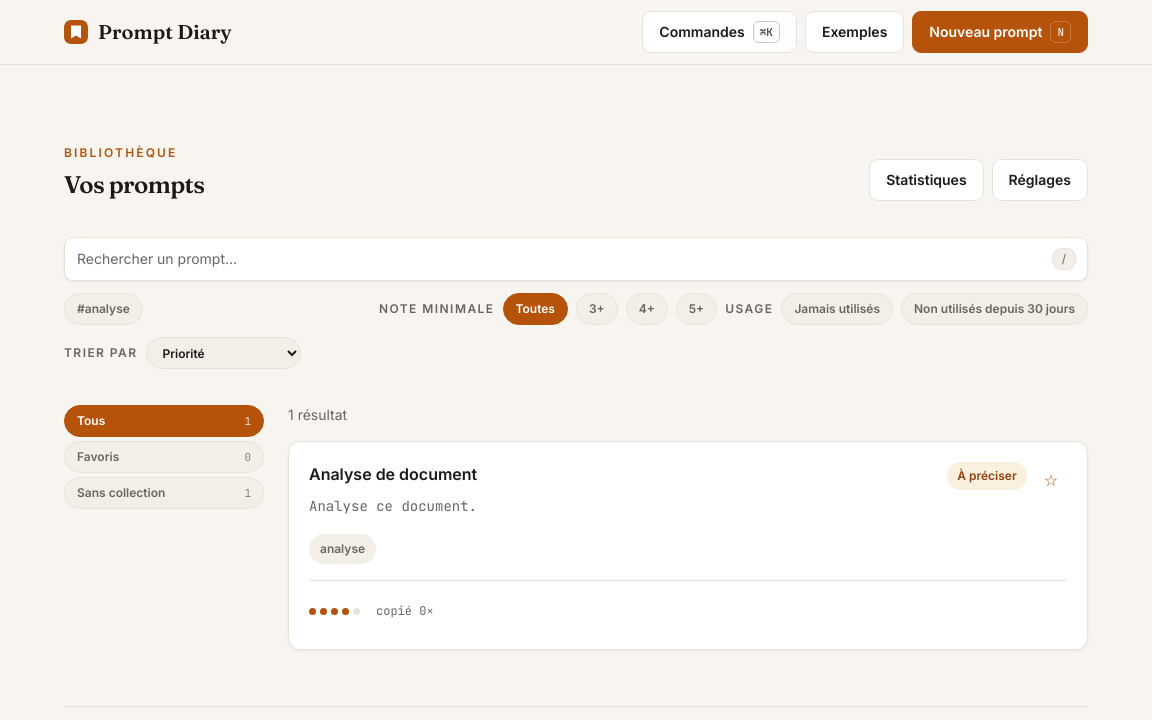
Test: Prompt Diary prompt library › opens the palette from the header and copies a prompt from it
The width and height of the screenshot is (1152, 720).
Check: the heading "Analyse de document" is shown, box x1=309 y1=464 x2=477 y2=484
Click the button with aria-label "Ouvrir la palette de commandes" at [720, 32], box x1=642 y1=11 x2=797 y2=53
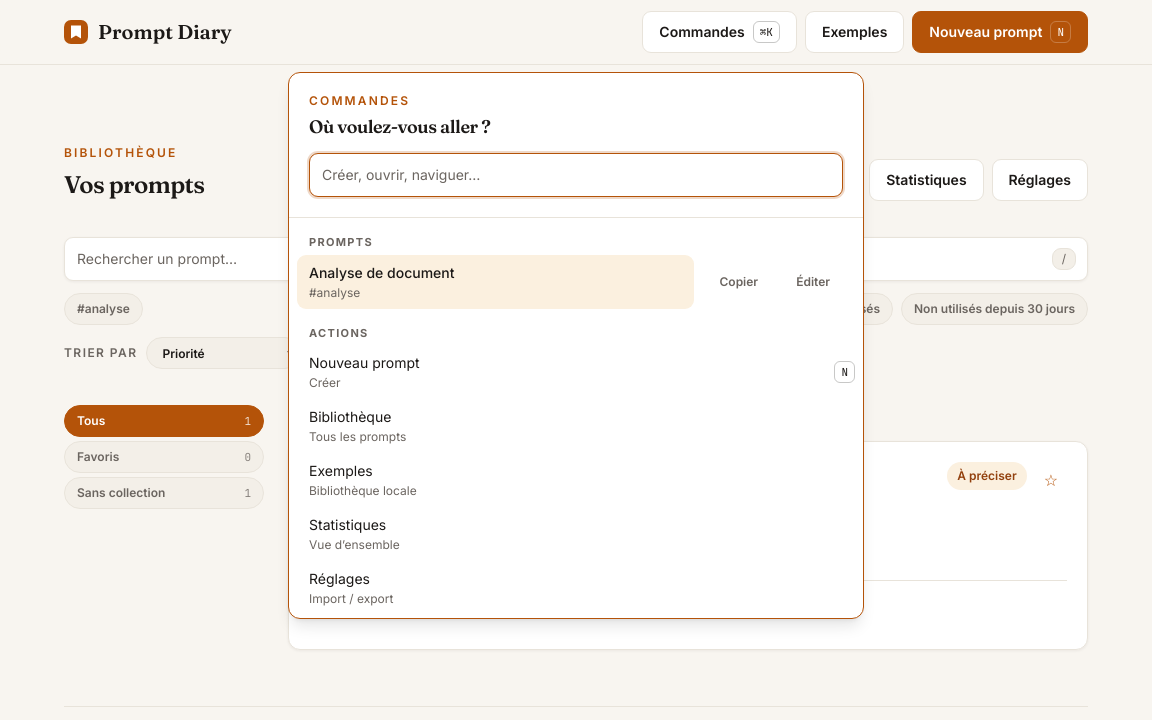
Type "analyse" into the dropdown named "Rechercher une commande ou un prompt" at [576, 175], box x1=309 y1=153 x2=843 y2=197
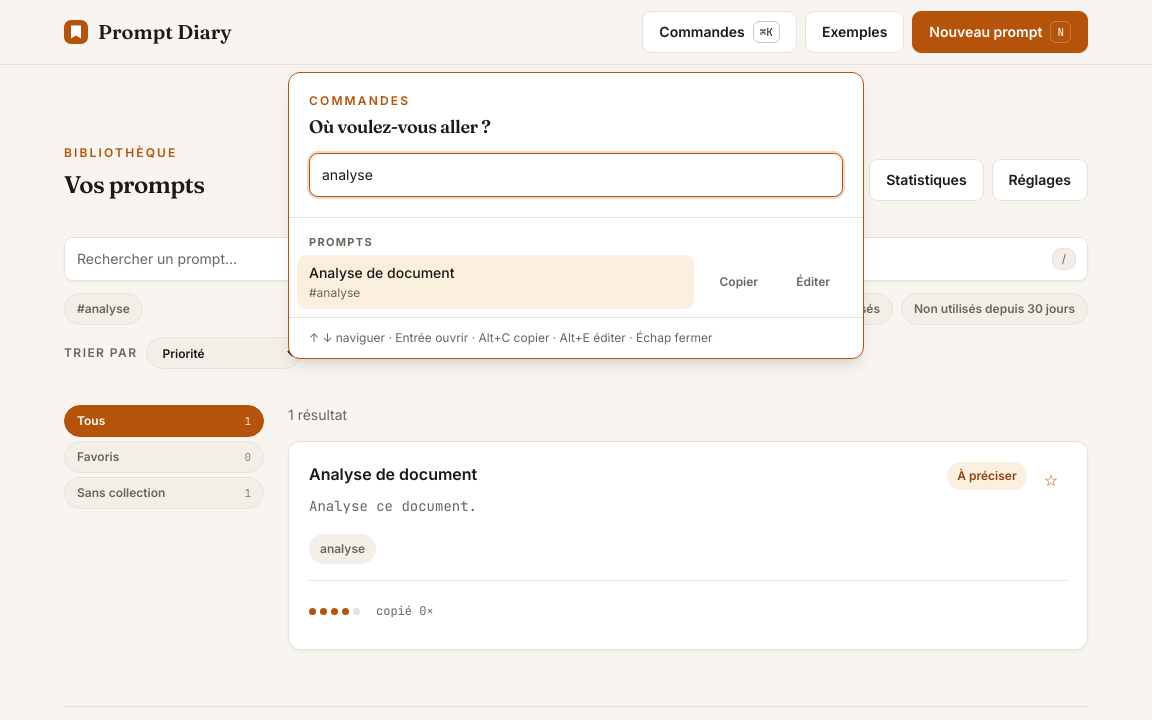
Type keys "{Alt>}c{/Alt}"
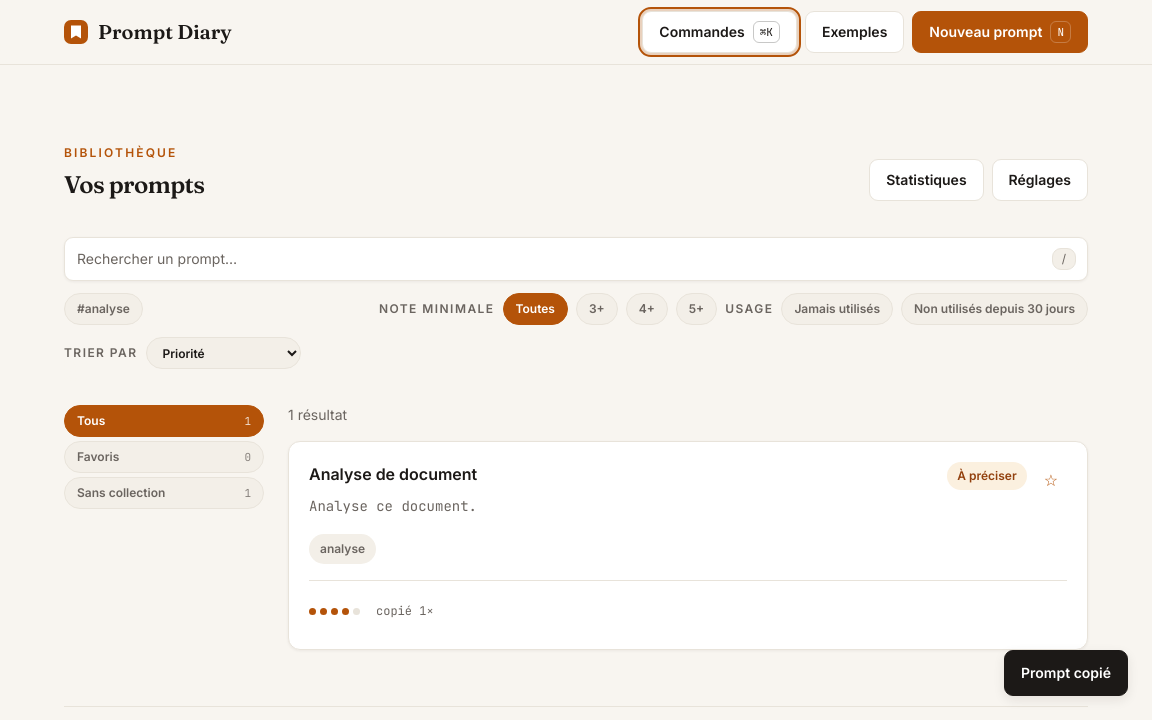
Check: the message reads "Prompt copié", box x1=1021 y1=664 x2=1111 y2=681
Check: the text "copié 1×" is shown, box x1=376 y1=603 x2=434 y2=619
